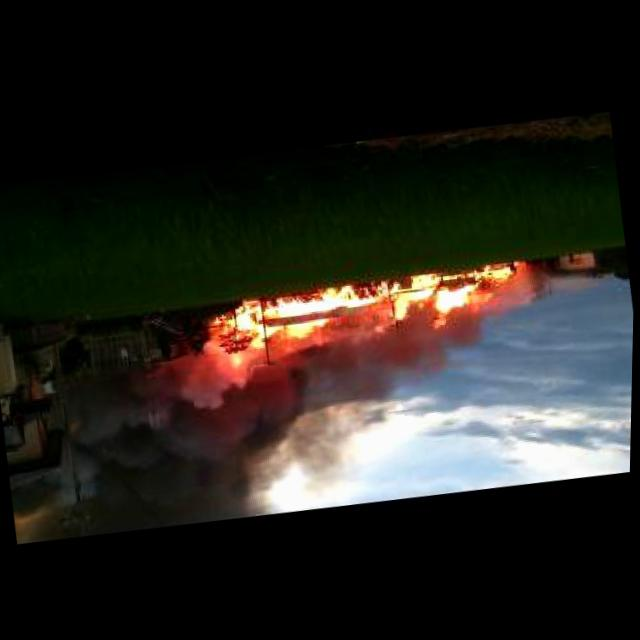helmet: (202, 253, 543, 380)
no_helmet: (16, 325, 495, 551)
